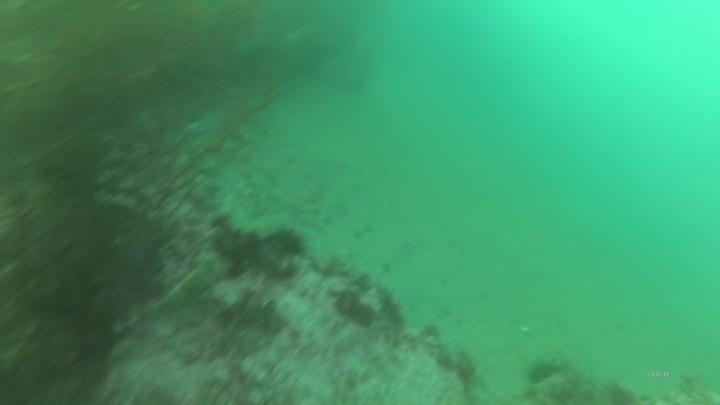echinus: (266, 225, 308, 260), (523, 356, 565, 388)
